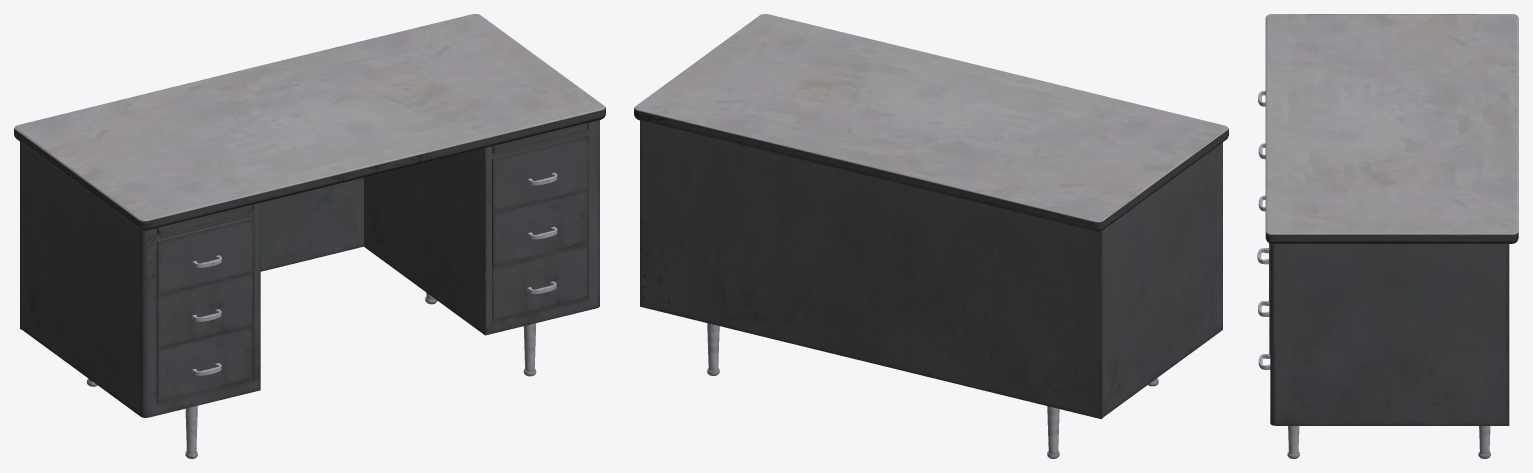
Rendered from metal_office_desk.glb.
The picture shows the model from 3 angles, left to right: view 1: azimuth 30°, elevation 25°; view 2: azimuth 150°, elevation 25°; view 3: azimuth 270°, elevation 25°; orthographic projection. The views are drawn at different scales.
Visible parts, largest first — view 1: metal_office_desk, metal_office_desk_drawer_04, metal_office_desk_drawer_01, metal_office_desk_drawer_03, metal_office_desk_drawer_02, metal_office_desk_drawer_06, metal_office_desk_drawer_05, metal_office_desk_tray_01, metal_office_desk_tray_02; view 2: metal_office_desk; view 3: metal_office_desk.
Boxes of the visible parts, x1,y1,x2,y2 form: metal_office_desk: (14, 14, 605, 458); metal_office_desk_drawer_04: (157, 217, 253, 295); metal_office_desk_drawer_01: (492, 135, 588, 212); metal_office_desk_drawer_03: (492, 244, 588, 321); metal_office_desk_drawer_02: (492, 189, 588, 266); metal_office_desk_drawer_06: (157, 326, 253, 403); metal_office_desk_drawer_05: (157, 272, 253, 349); metal_office_desk_tray_01: (157, 204, 252, 235); metal_office_desk_tray_02: (492, 123, 587, 153); metal_office_desk: (634, 14, 1228, 458); metal_office_desk: (1265, 14, 1518, 458).
Size of the model in its own units: 1.4 by 0.7499 by 0.7.
1 material, 1 textured.
